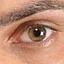eye: (28, 26, 47, 41)
